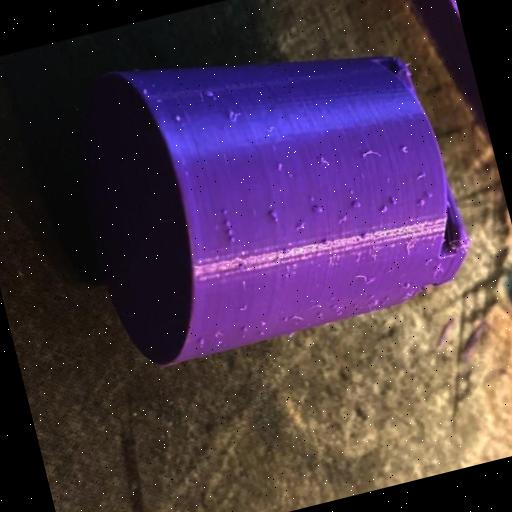blobs: (200, 82, 218, 104), (424, 186, 437, 200), (220, 204, 233, 217), (311, 202, 324, 215), (402, 278, 415, 291), (228, 232, 240, 246), (352, 198, 364, 212), (388, 196, 402, 208), (415, 196, 427, 210), (274, 158, 286, 172), (266, 209, 278, 222), (240, 323, 252, 335), (378, 202, 388, 216), (223, 217, 234, 228), (359, 228, 369, 240), (173, 112, 182, 125), (226, 226, 235, 238), (382, 293, 392, 303)
